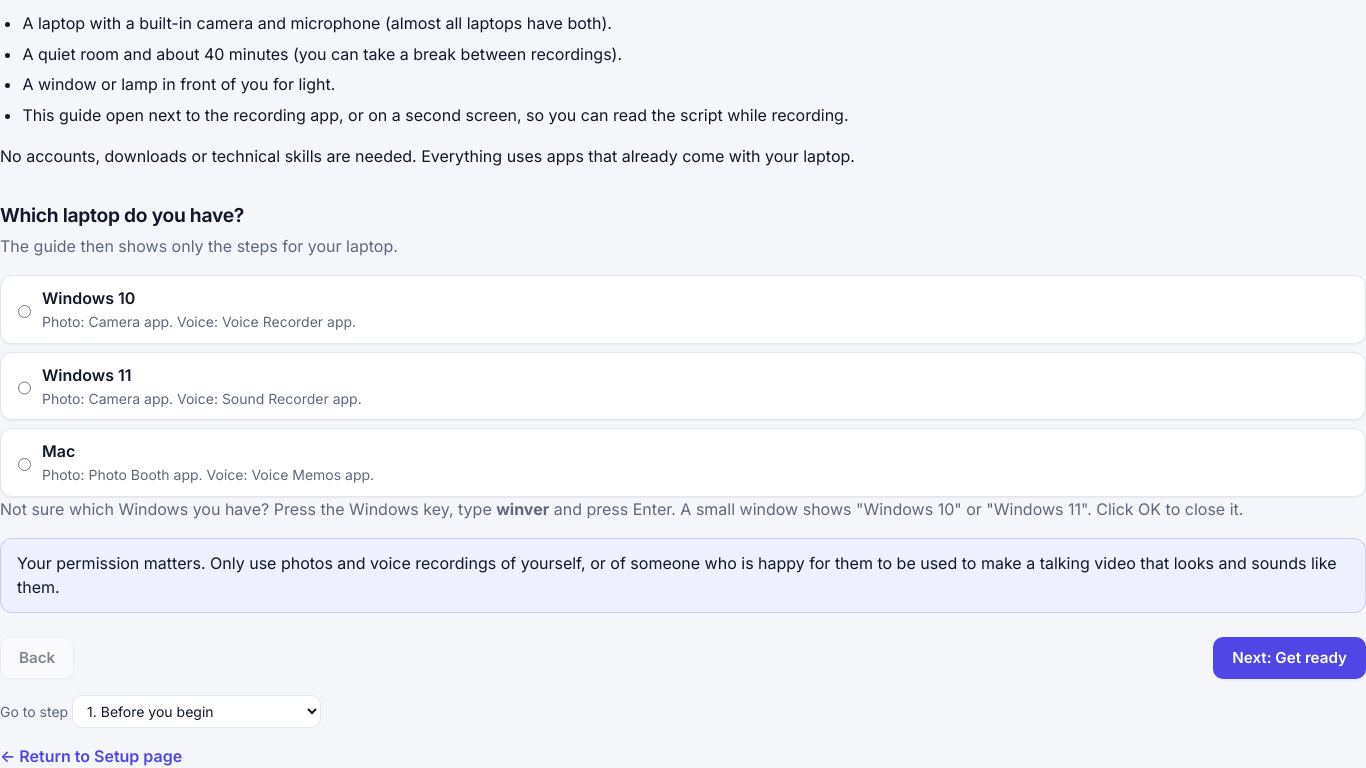
Scenario: Next and Back move through the steps and log each one
(page scrolled)
Click the button "Next: Get ready". click: (1290, 658)
box: [1213, 637, 1365, 679]
(page scrolled)
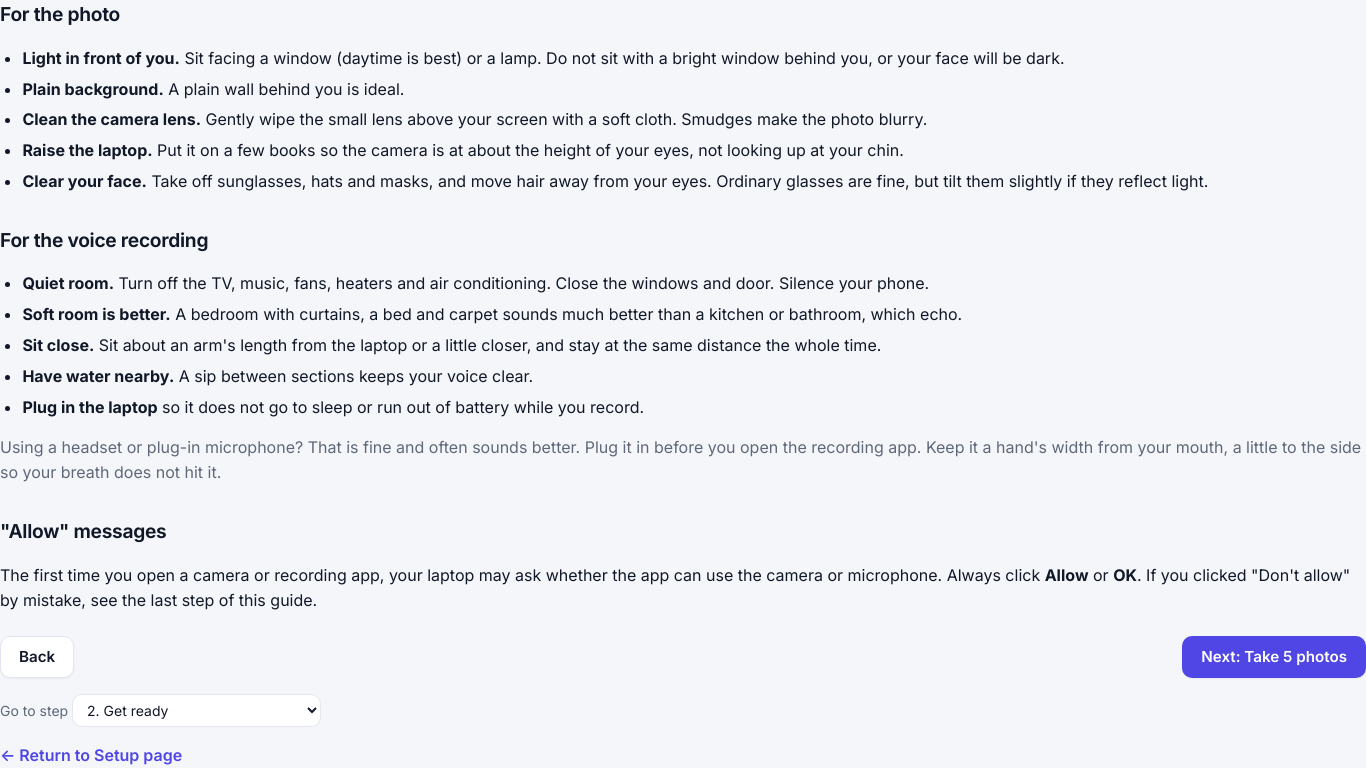
Click the button "Back". click: (37, 657)
box: [0, 636, 74, 678]
(page scrolled)
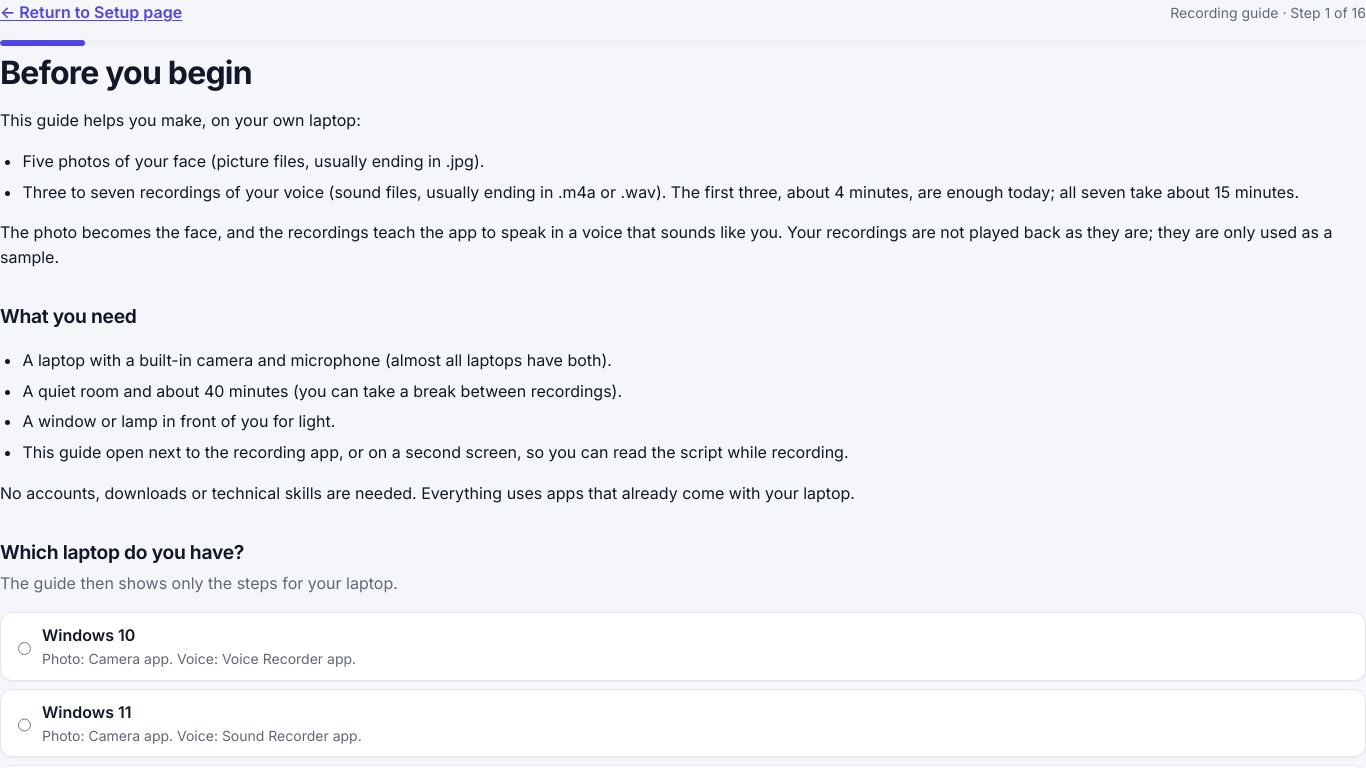
Result: the heading "Before you begin" is shown at [0, 53, 252, 92]
